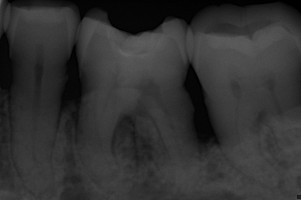Endo-Periodontal Lesion: (111, 114, 158, 163)
